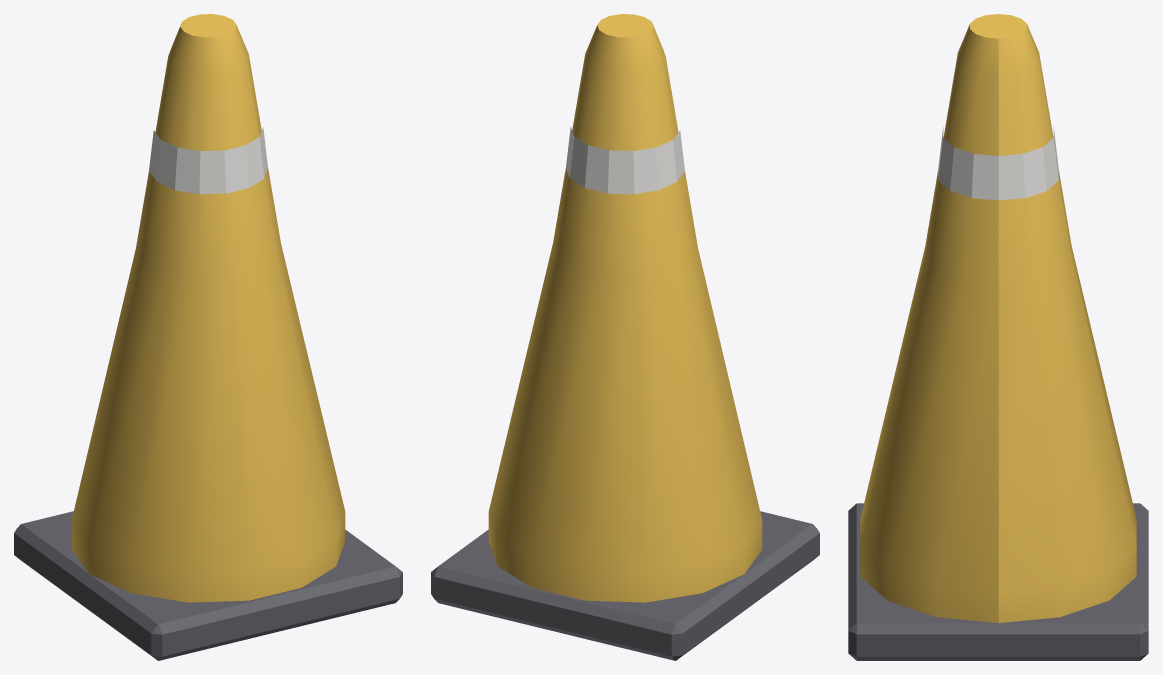
Rendered from packed.glb.
The picture shows the model from 3 angles, left to right: view 1: azimuth 30°, elevation 25°; view 2: azimuth 150°, elevation 25°; view 3: azimuth 270°, elevation 25°; orthographic projection. The views are drawn at different scales.
Visible parts, largest first — view 1: traffic-cone; view 2: traffic-cone; view 3: traffic-cone.
Boxes of the visible parts, left/top/right/bottom form: traffic-cone: left=14, top=14, right=402, bottom=660; traffic-cone: left=431, top=14, right=819, bottom=660; traffic-cone: left=848, top=14, right=1148, bottom=660.
Bounding box in the file's own units: 0.36 × 0.76 × 0.36.
